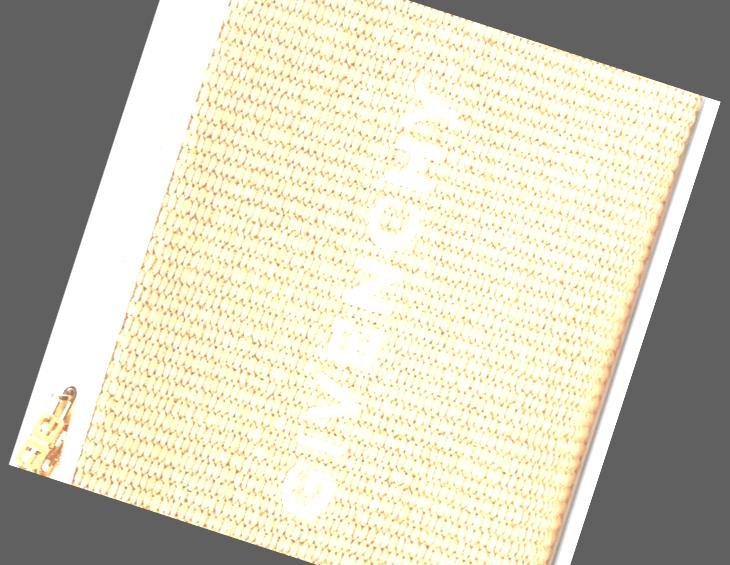GIVENCHY: (254, 60, 479, 534)
